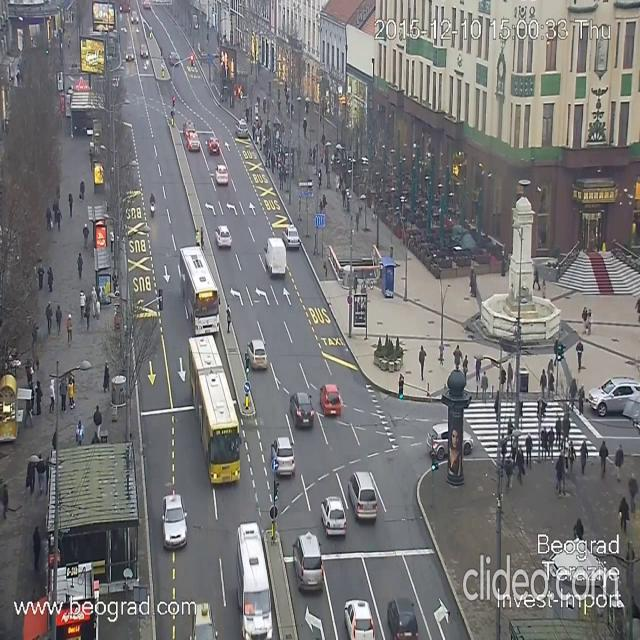bus: (188, 334, 240, 486), (233, 523, 269, 640), (178, 244, 220, 336)
car: (585, 376, 640, 413), (292, 532, 323, 592), (426, 422, 474, 459), (348, 470, 378, 522), (161, 492, 187, 550), (386, 597, 418, 639), (344, 598, 375, 639), (190, 601, 218, 639), (321, 495, 346, 537), (271, 437, 295, 478), (290, 391, 314, 429), (264, 238, 285, 276), (319, 383, 342, 417), (246, 340, 268, 370), (214, 225, 232, 248), (283, 227, 299, 245), (215, 163, 228, 185), (182, 122, 198, 138), (235, 122, 248, 138), (188, 138, 200, 154), (210, 138, 218, 152), (125, 50, 133, 64), (131, 9, 137, 26), (141, 46, 147, 58)
